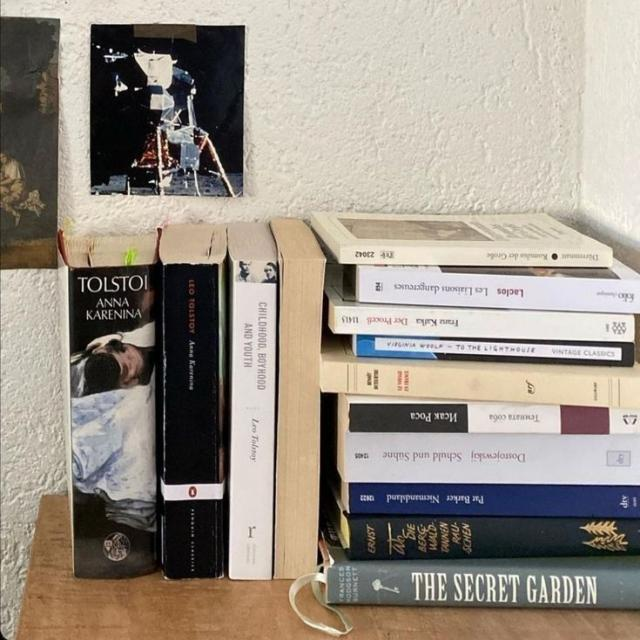book: (69, 264, 157, 577), (163, 262, 225, 579), (228, 259, 277, 579), (345, 432, 640, 485), (327, 562, 640, 611), (323, 361, 640, 407), (356, 269, 640, 314), (348, 520, 640, 560), (334, 307, 636, 343), (348, 484, 640, 518), (350, 403, 640, 434), (356, 335, 634, 366), (338, 241, 614, 266)
